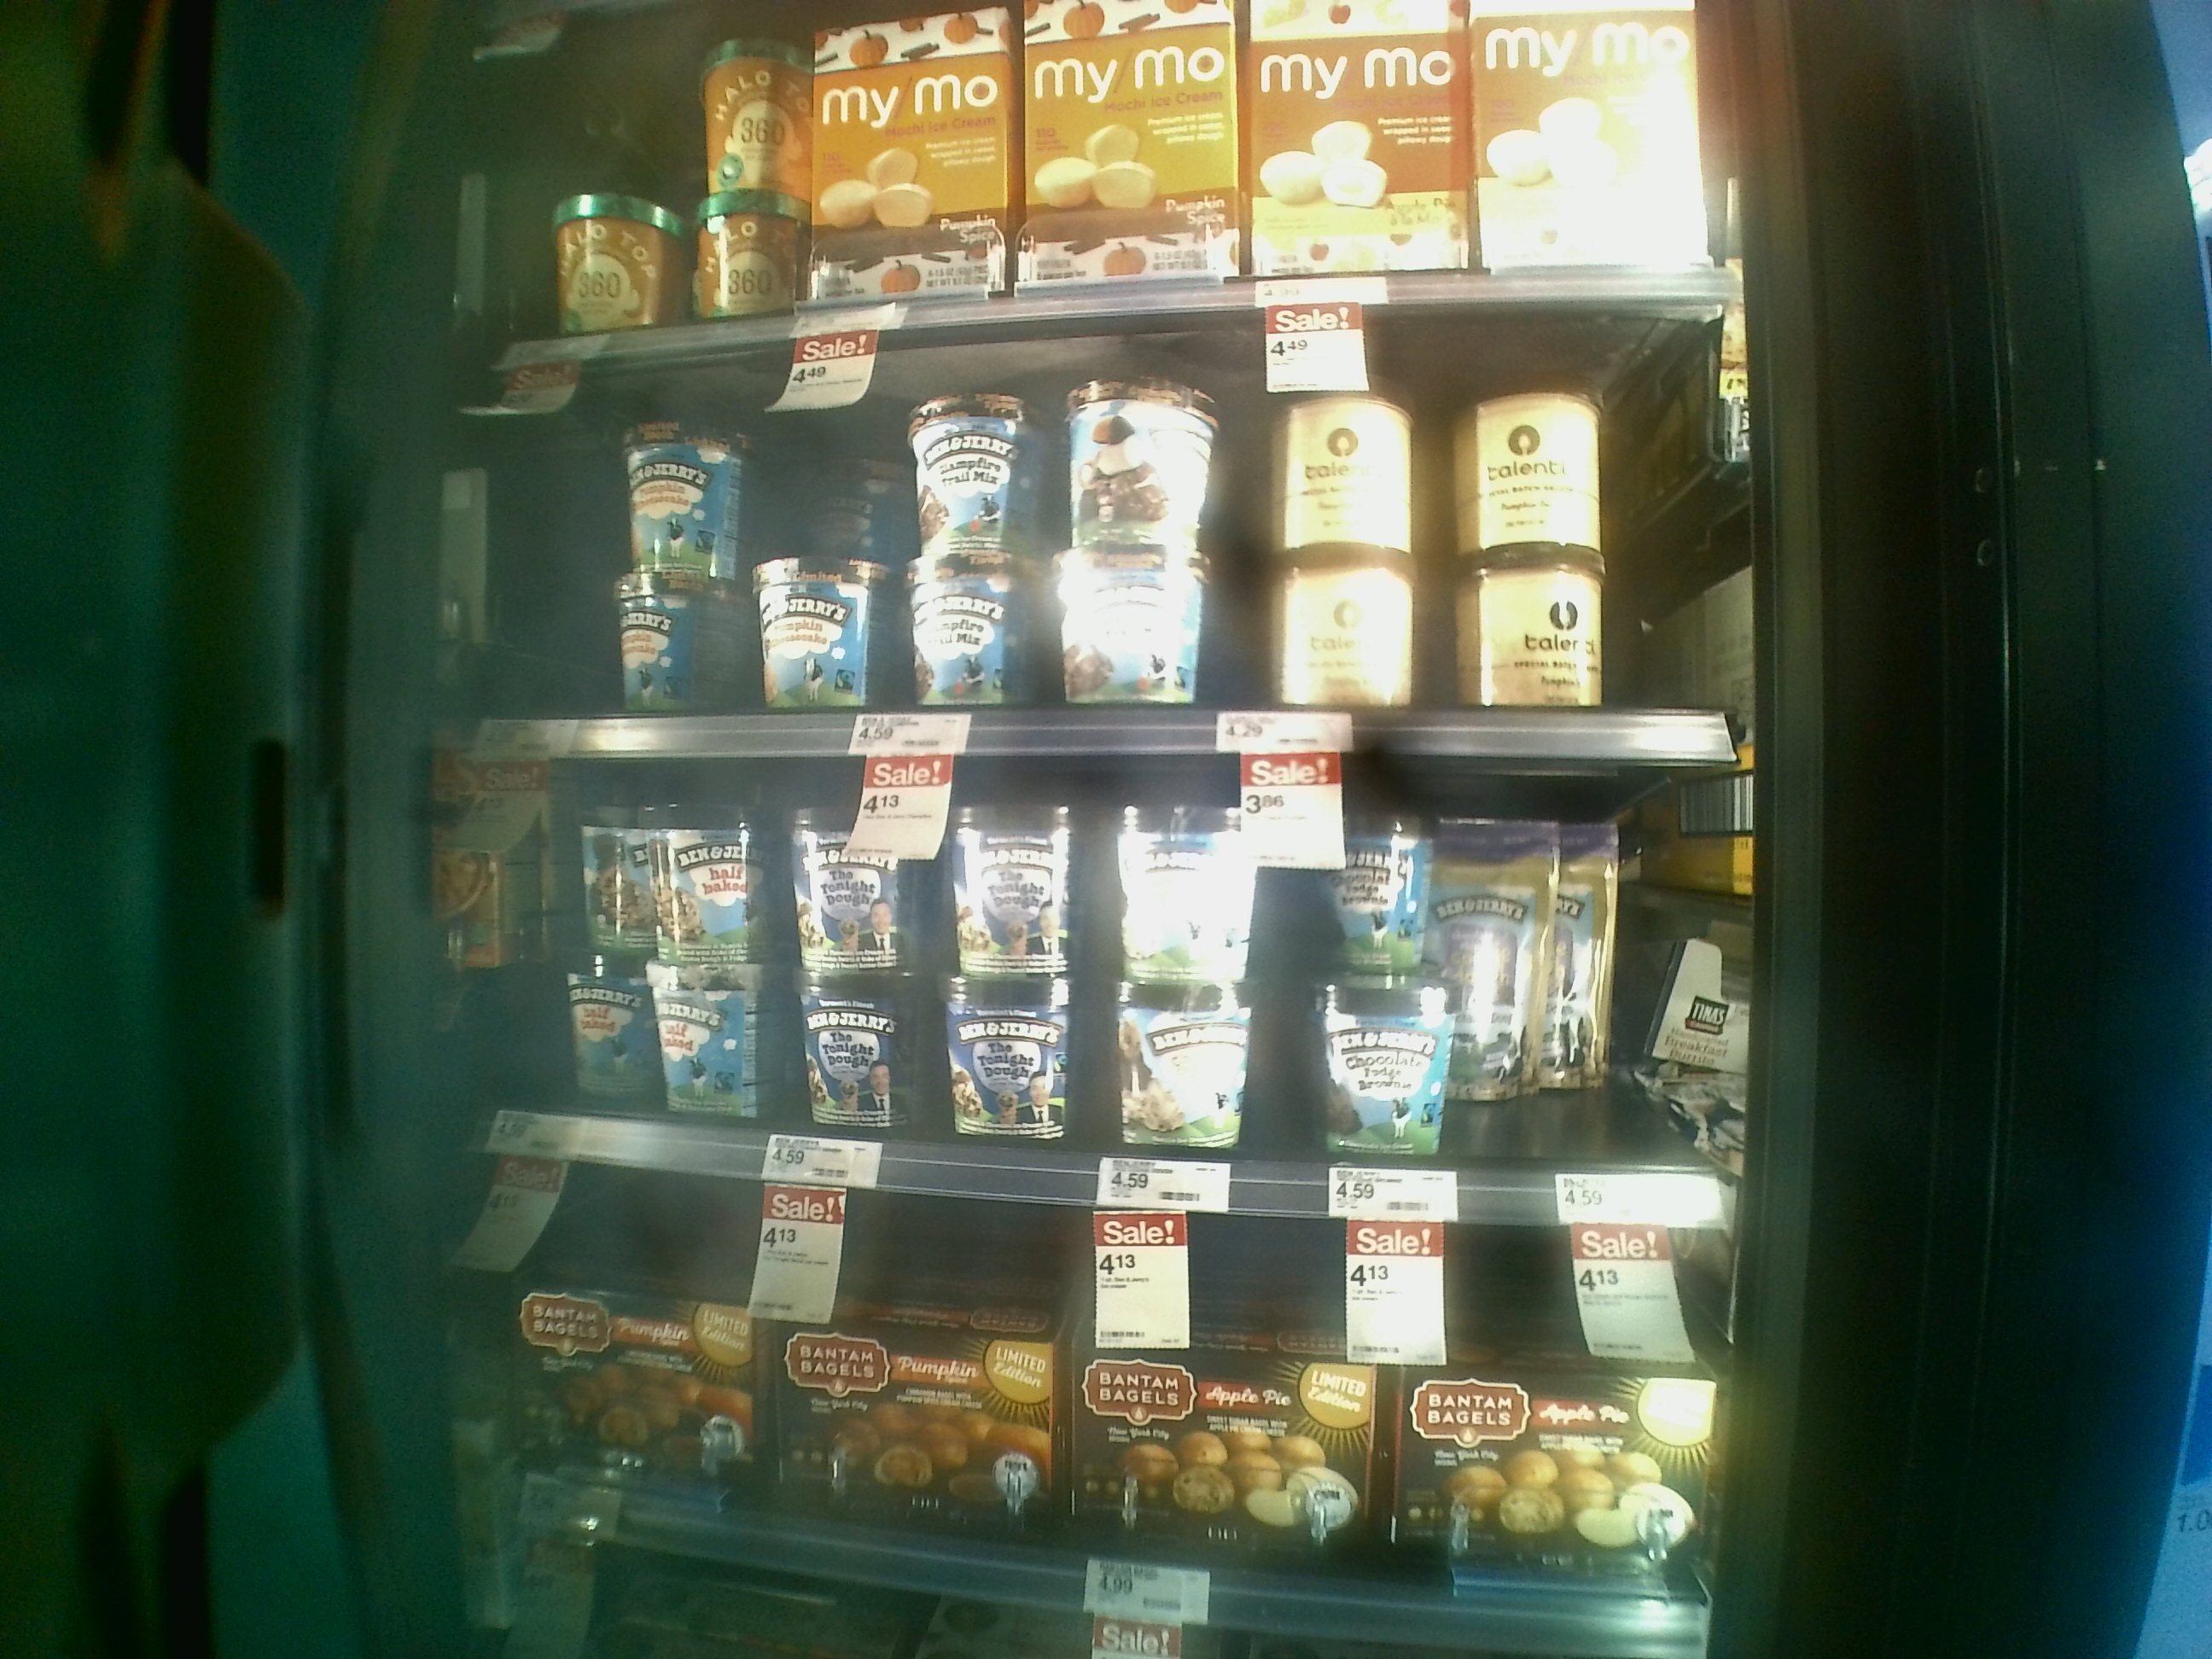shelf: (404, 765, 1763, 1236), (418, 375, 1801, 770)
